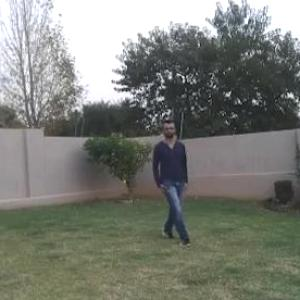follow: (154, 122, 189, 239)
